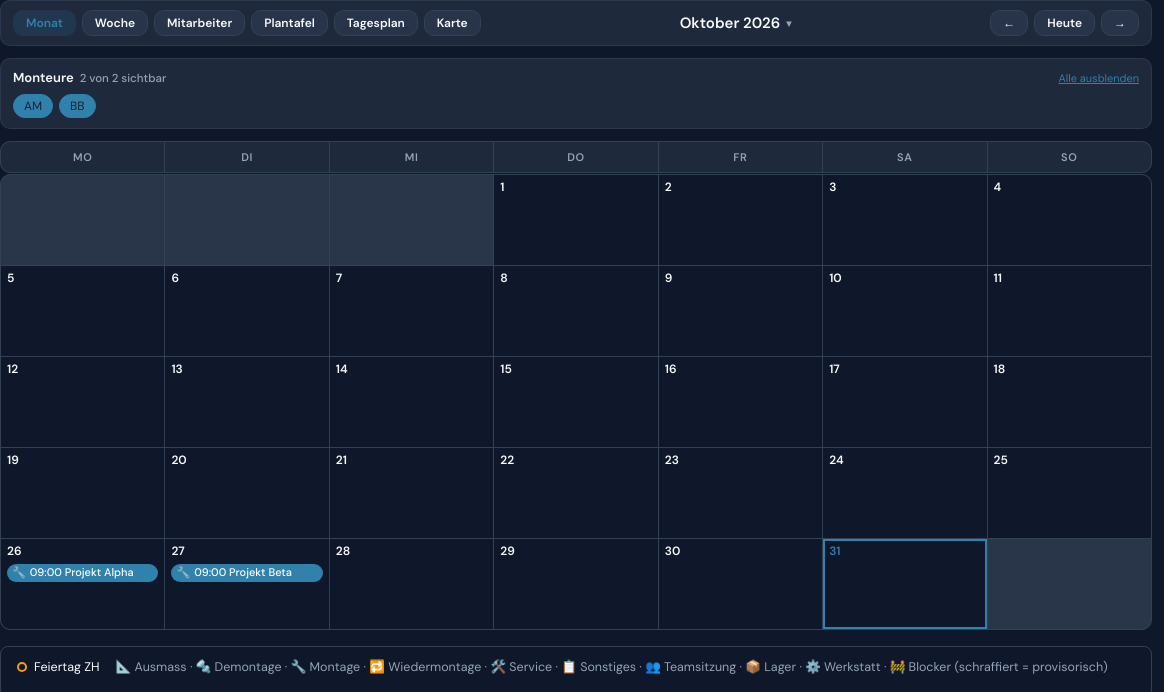
Test: Plantafel › zeigt eine Zeile pro Monteur; Einsätze landen in der Zeile ihres Monteurs
This screenshot has width=1164, height=692.
Step 1. Click the button "Plantafel" → click(290, 23), box [251,10,328,36]
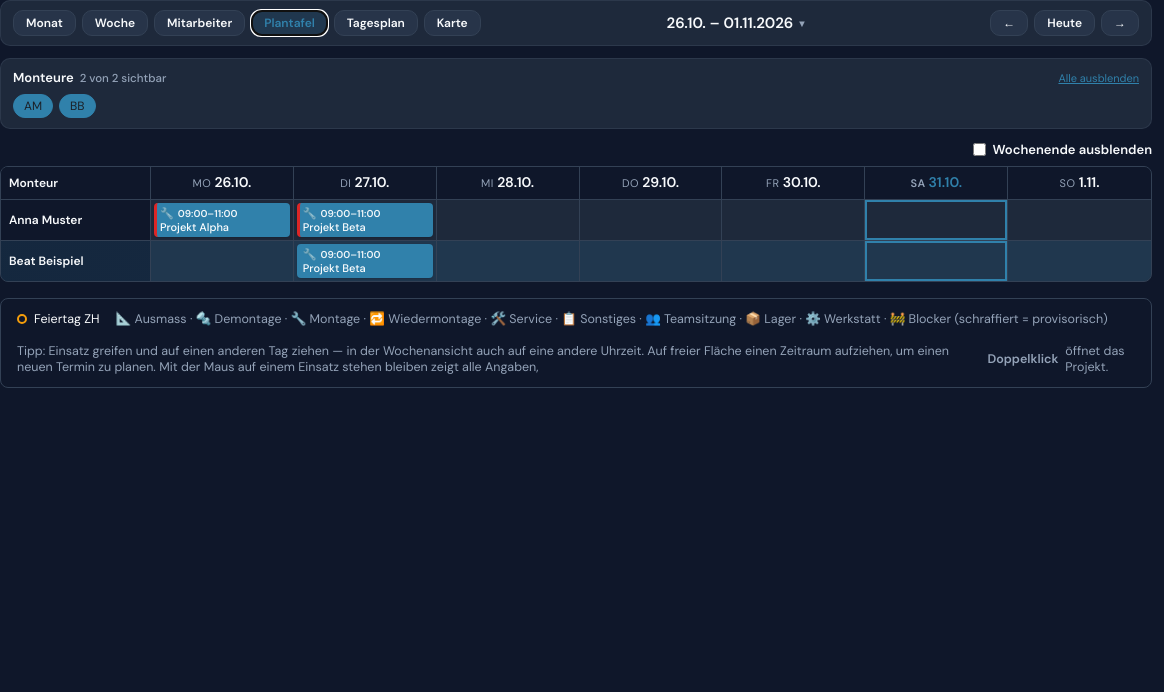
Expected: the element that starts with "Anna Muster" is shown, [9,212,82,228]
Expected: the element that starts with "Anna Muster" shows "Projekt Alpha", [160,220,229,234]
Expected: the element that starts with "Anna Muster" shows "Projekt Beta", [303,220,366,234]
